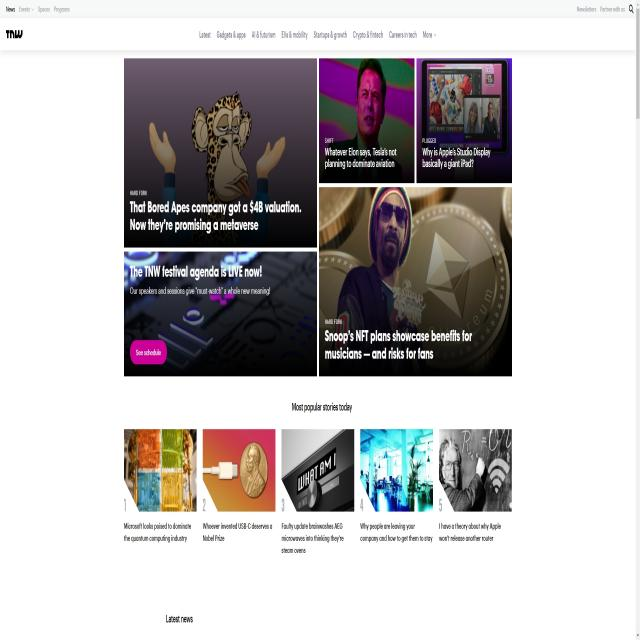tab-bar: (197, 24, 440, 49)
